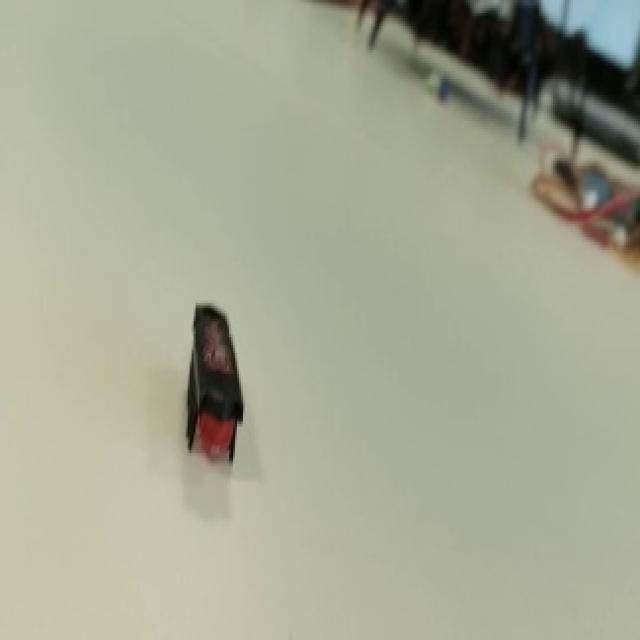2_NanoBug_Negro: (166, 276, 267, 480)
